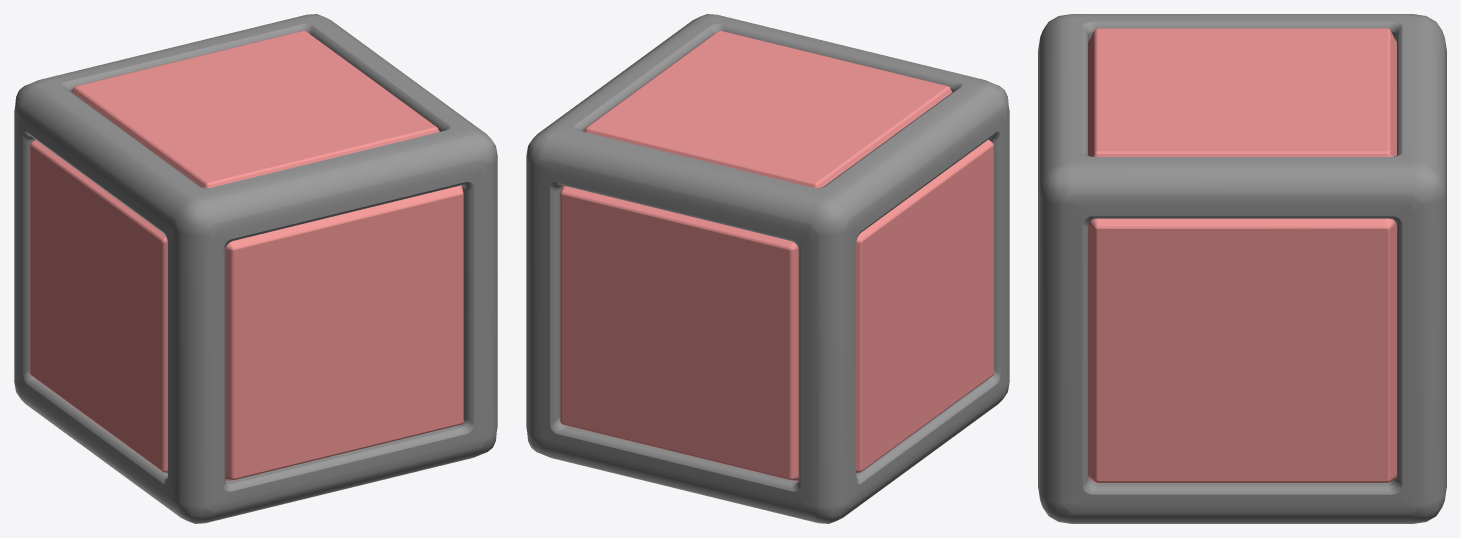
The model's file is PlatformToy_02.gltf.
The picture shows the model from 3 angles, left to right: view 1: azimuth 30°, elevation 25°; view 2: azimuth 150°, elevation 25°; view 3: azimuth 270°, elevation 25°; orthographic projection. The views are drawn at different scales.
Parts seen in each view (by area): view 1: PlatformToy_02; view 2: PlatformToy_02; view 3: PlatformToy_02.
Boxes of the visible parts, box(x1,y1,x2,y2) form: PlatformToy_02: box(14, 14, 497, 523); PlatformToy_02: box(526, 14, 1009, 523); PlatformToy_02: box(1038, 14, 1446, 523).
Bounding box in the file's own units: 6.07 × 5.88 × 6.07.
